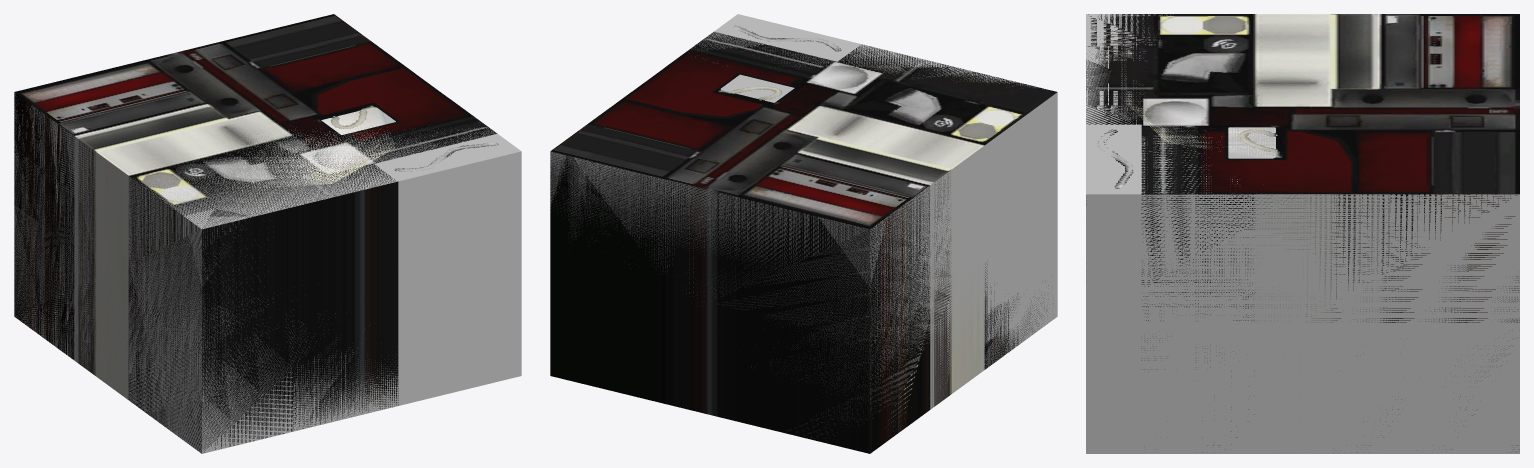
File: coffee_cup.DAE
3 views of the same model, side by side, from view 1: azimuth 30°, elevation 25°; view 2: azimuth 150°, elevation 25°; view 3: azimuth 270°, elevation 25° (orthographic). The views are drawn at different scales.
Parts seen in each view (by area): view 1: colbox-1, bounds, coffee_cup100; view 2: colbox-1, bounds; view 3: bounds, colbox-1, coffee_cup100.
Part boxes in pixels (x1,y1,x2,y2): colbox-1: (14, 14, 498, 453); bounds: (14, 93, 521, 453); coffee_cup100: (157, 107, 394, 188); colbox-1: (550, 25, 1057, 453); bounds: (550, 14, 1057, 426); bounds: (1086, 14, 1519, 453); colbox-1: (1086, 14, 1519, 452); coffee_cup100: (1120, 57, 1275, 158).
Size of the model in its own units: 9.09 by 9.24 by 6.1.
